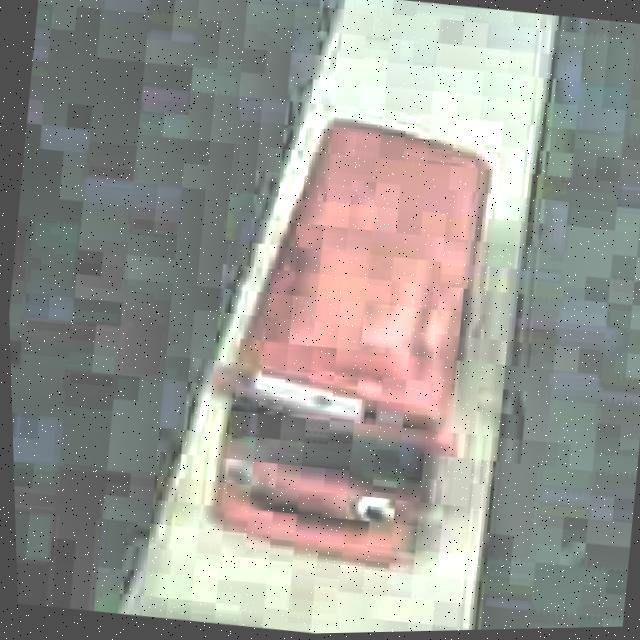bus: (179, 98, 514, 585)
